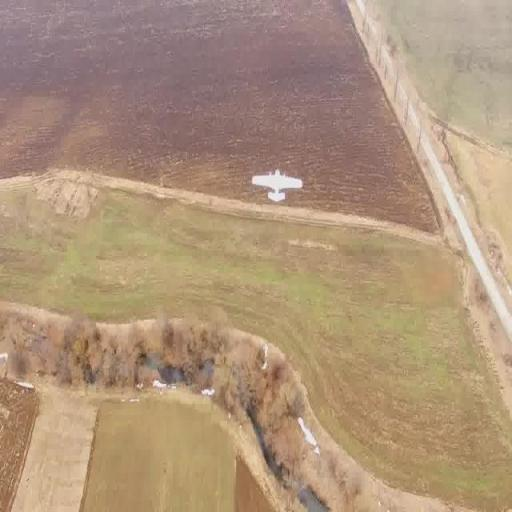uav: (250, 166, 304, 208)
